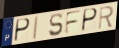F: (64, 9, 83, 35)
I: (32, 15, 40, 42)
P: (13, 17, 31, 43), (81, 7, 99, 33)
R: (98, 5, 115, 31)
S: (48, 12, 64, 38)
